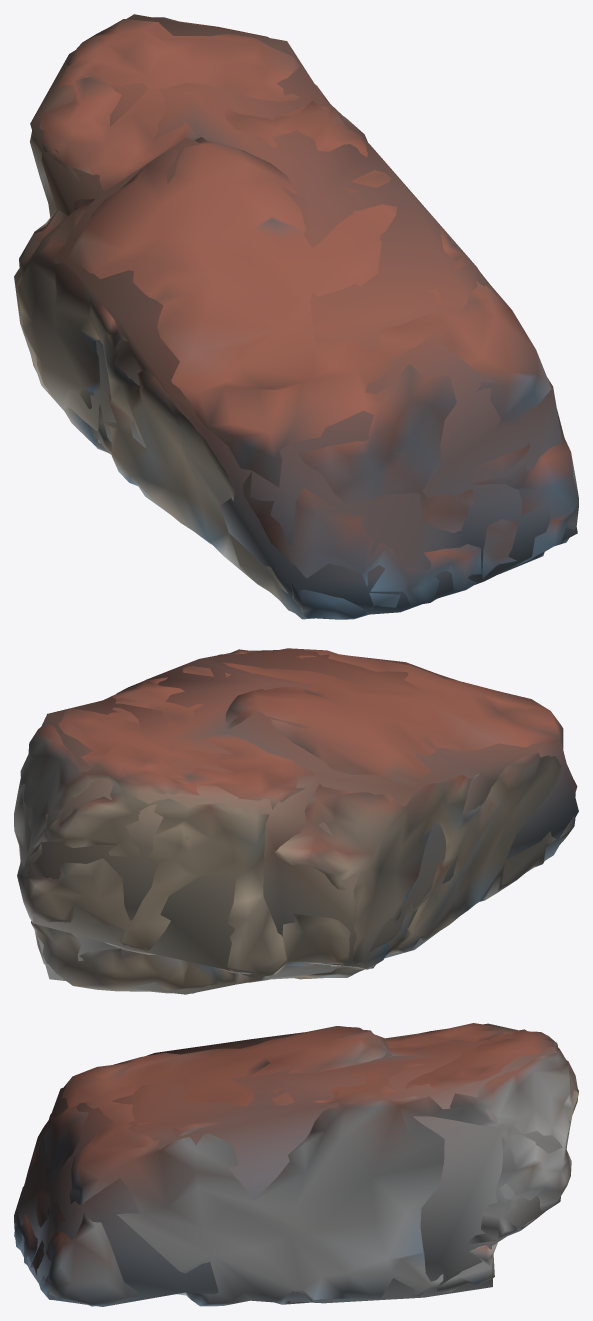
Rendered from rock_07.fbx.
3 renders of one model, top to bottom at view 1: azimuth 30°, elevation 25°; view 2: azimuth 150°, elevation 25°; view 3: azimuth 270°, elevation 25°, orthographic. The views are drawn at different scales.
Parts seen in each view (by area): view 1: High_rock_07, Low_rock_07; view 2: High_rock_07, Low_rock_07; view 3: High_rock_07, Low_rock_07.
Boxes of the visible parts, x1,y1,x2,y2 form: High_rock_07: [17, 17, 578, 619]; Low_rock_07: [14, 14, 577, 619]; High_rock_07: [14, 648, 577, 993]; Low_rock_07: [20, 649, 578, 994]; High_rock_07: [14, 1023, 578, 1306]; Low_rock_07: [14, 1023, 577, 1306].
Size of the model in its own units: 16.8 by 14.36 by 32.02.
